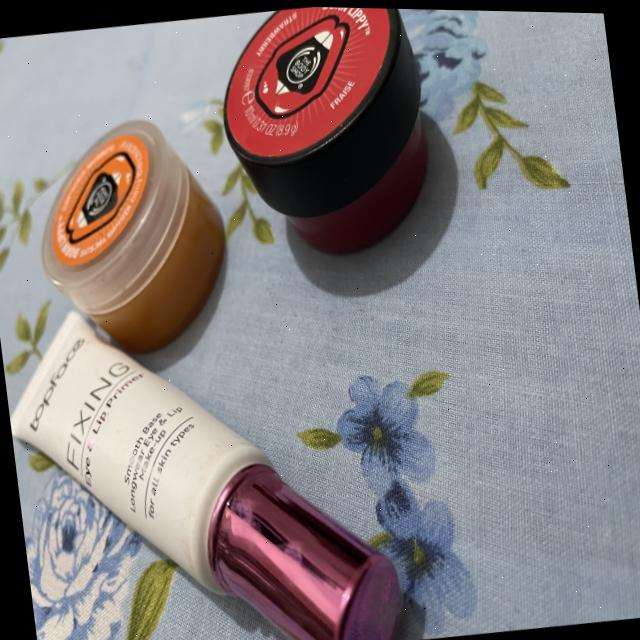lip balm: (194, 3, 454, 276), (14, 82, 246, 373)
primer: (0, 245, 404, 640)
